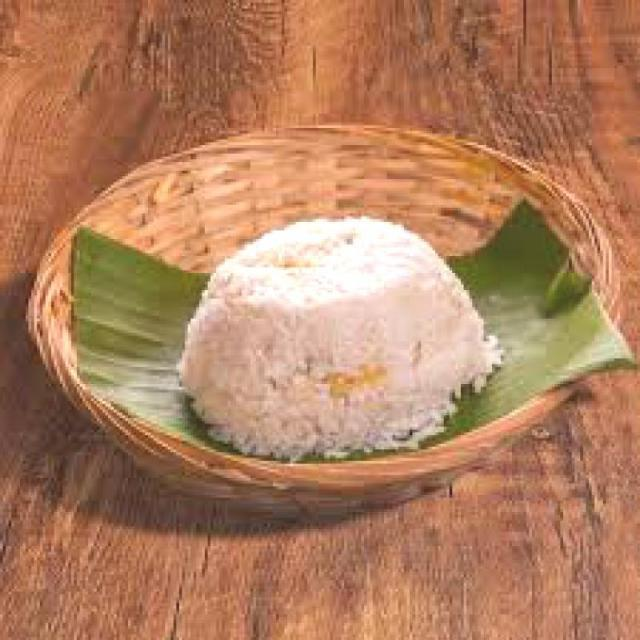Chicken -Chicken Inasal-: (181, 223, 498, 455)
